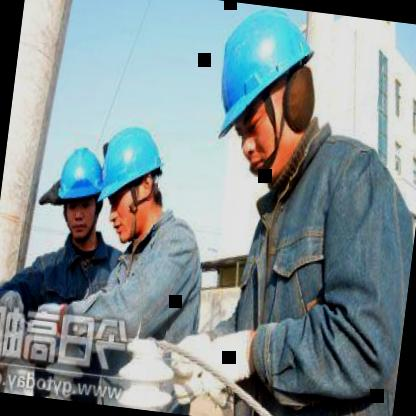helmet: (192, 2, 332, 196), (90, 116, 170, 250), (46, 134, 112, 247)
